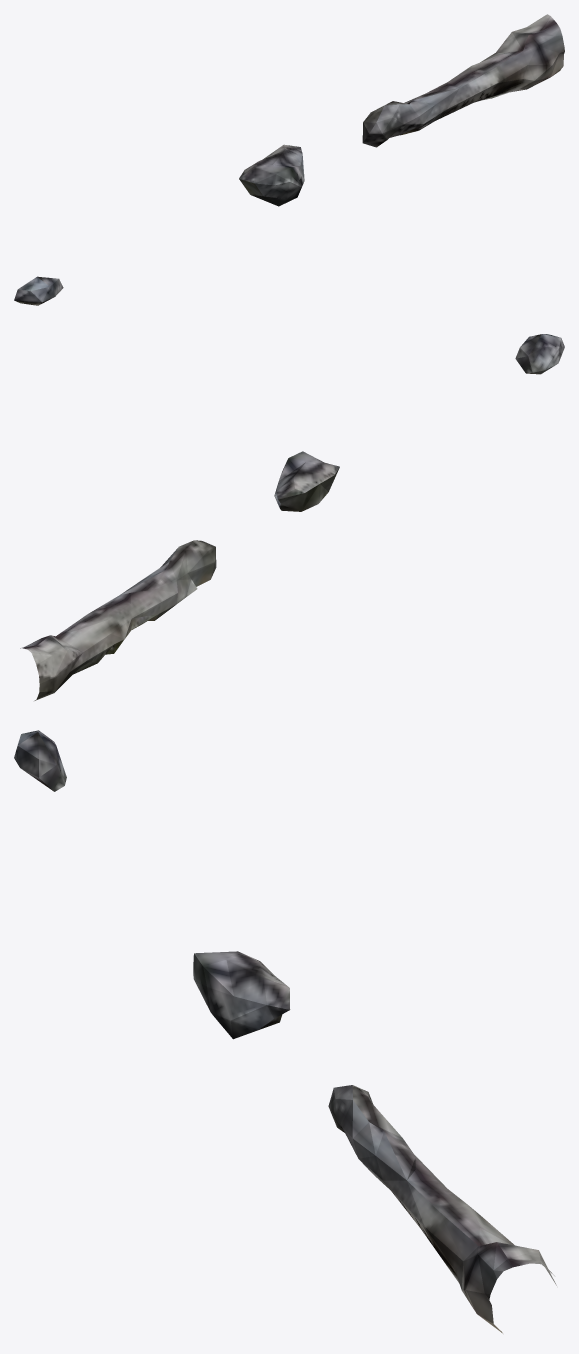
3 renders of one model, top to bottom at view 1: azimuth 30°, elevation 25°; view 2: azimuth 210°, elevation 25°; view 3: azimuth 270°, elevation 25°, orthographic. The views are drawn at different scales.
Bounding box in the file's own units: 0.823 × 0.0898 × 0.3779.
Materials: 1 (1 with a texture image).
